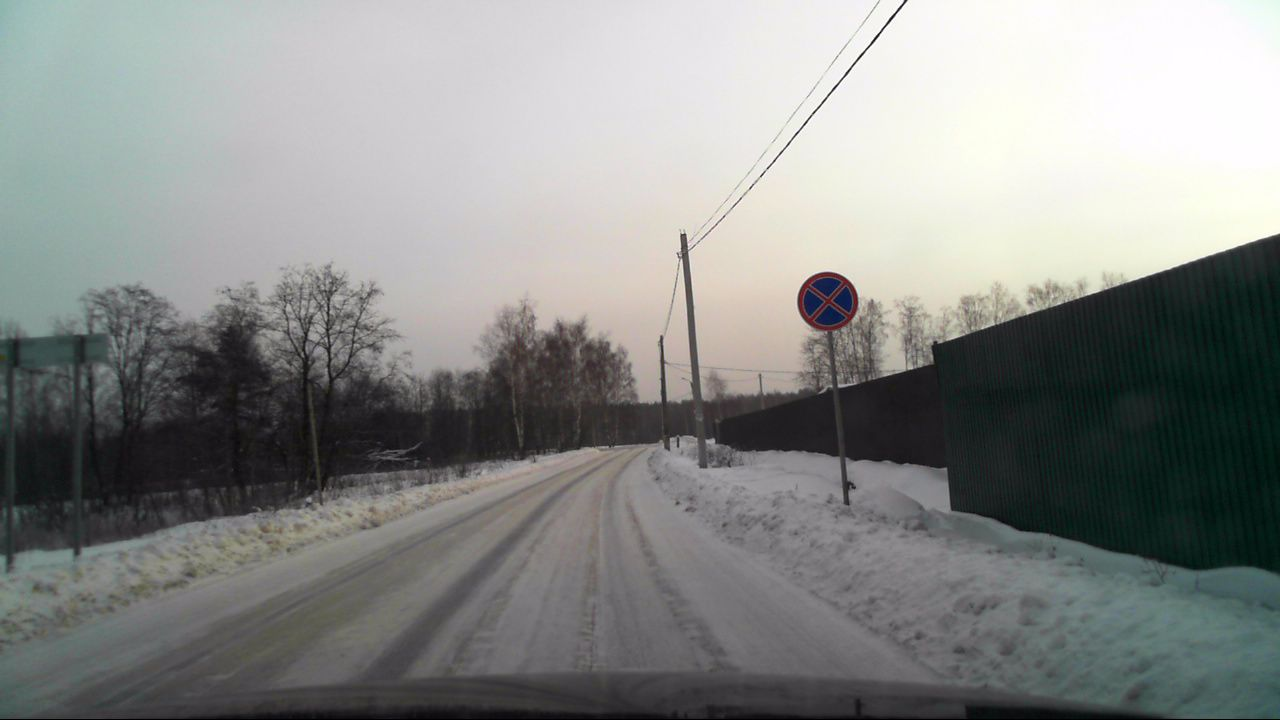No Parking: (798, 271, 859, 330)
